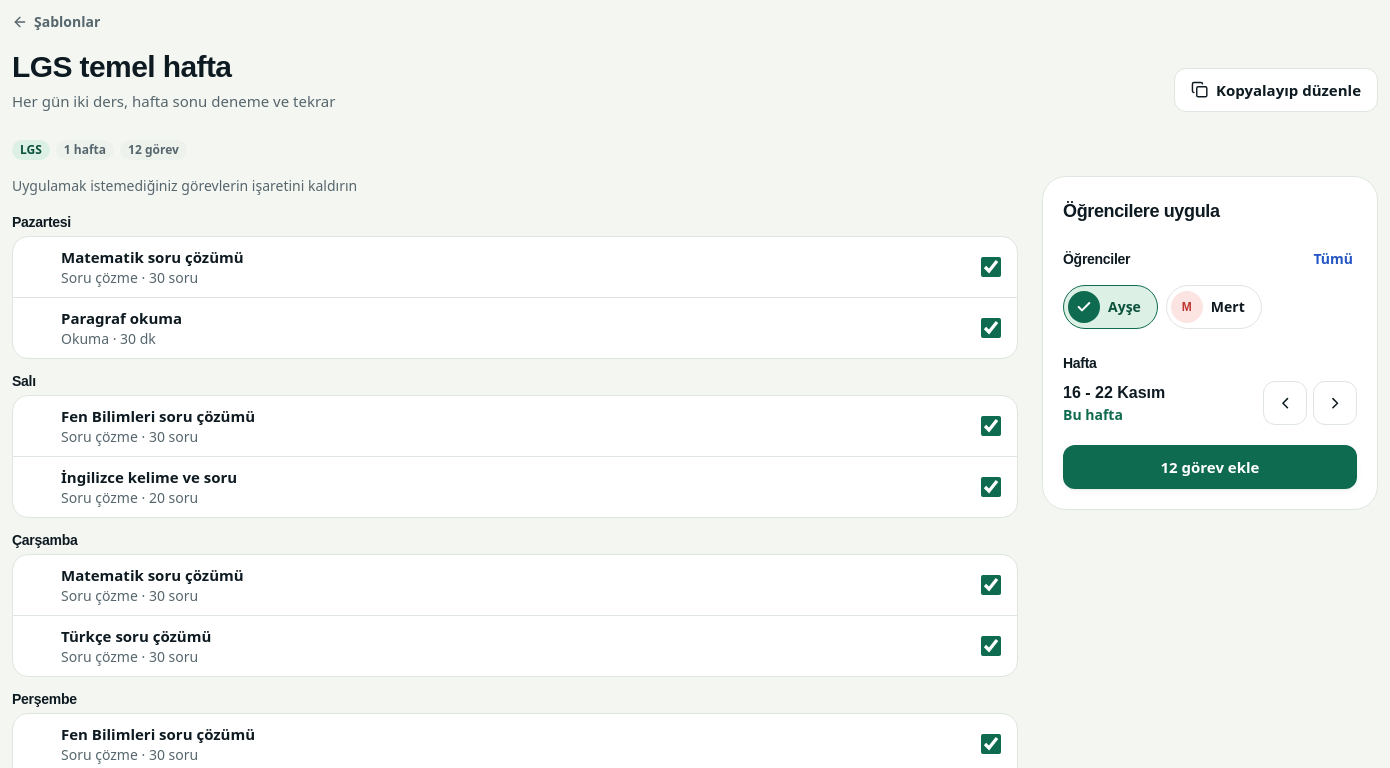
Test case: şablon sayfası › farklı sınav türündeki öğrenci için uyarı gösterir
Check: the heading "LGS temel hafta" is shown, box [12,50,231,83]
Click the checkbox labelled "Mert" at (1214, 307), box [1166,285,1262,329]
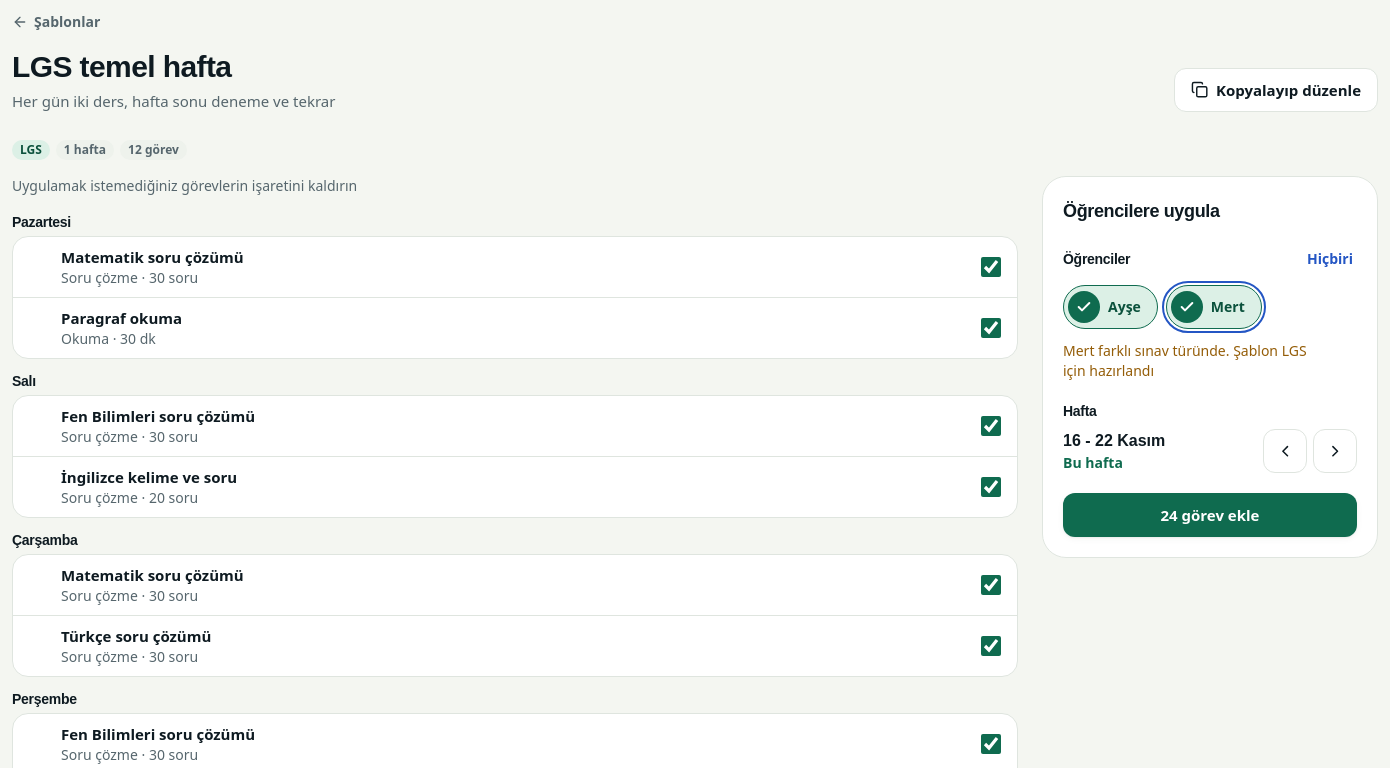
Check: the text "Mert farklı sınav türünde. Şablon LGS için hazırlandı" is shown, box [1063,341,1307,380]
